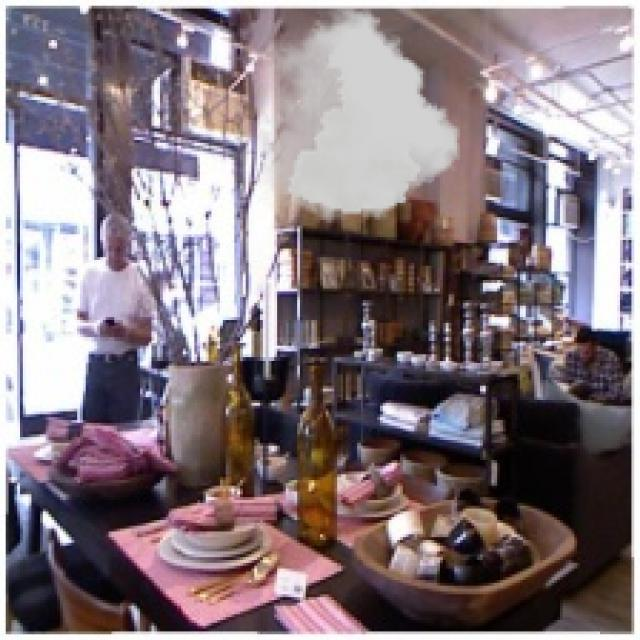smoke: (257, 8, 460, 223)
